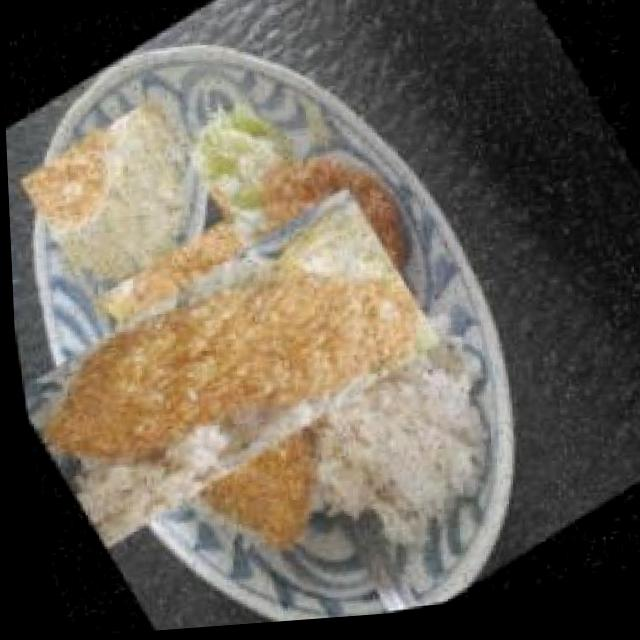chinese_cabbage: (171, 75, 311, 226)
fried_chicken: (11, 154, 436, 588)
fried_eggs: (8, 87, 234, 313)
rice: (239, 238, 524, 582)
triangle_hash_brown: (225, 114, 431, 348)
